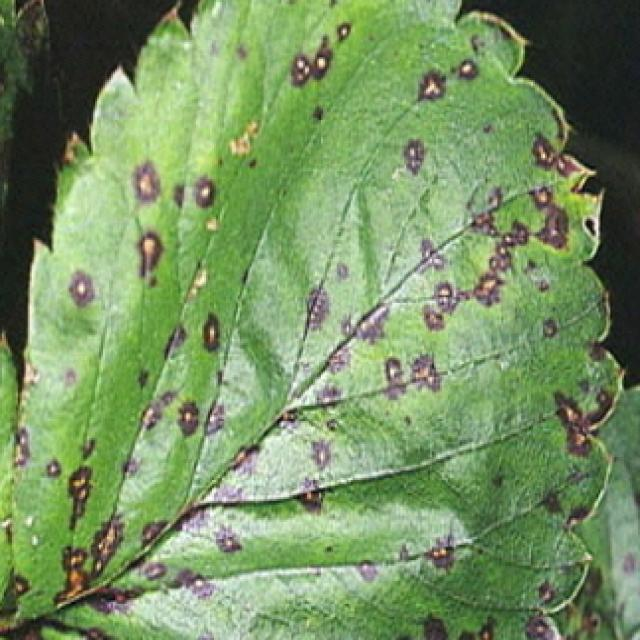Leaf Spot: (0, 0, 629, 640), (553, 384, 640, 640)
